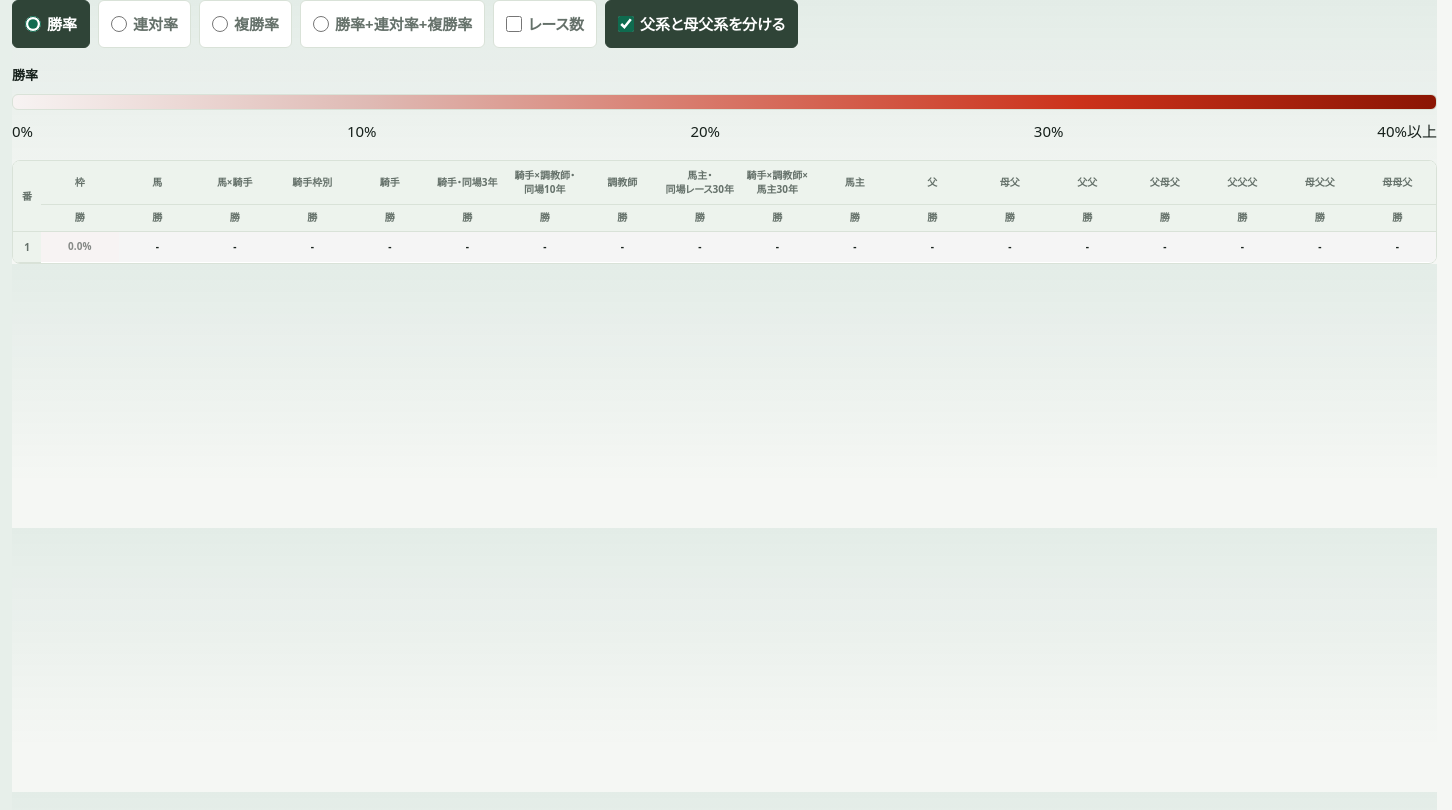
Test case: writes a zero rate with one decimal in the combined heatmap cells
This screenshot has width=1452, height=810.
Click the radio button labelled "勝率+連対率+複勝率".
click(321, 24)  # box [313,16,329,32]
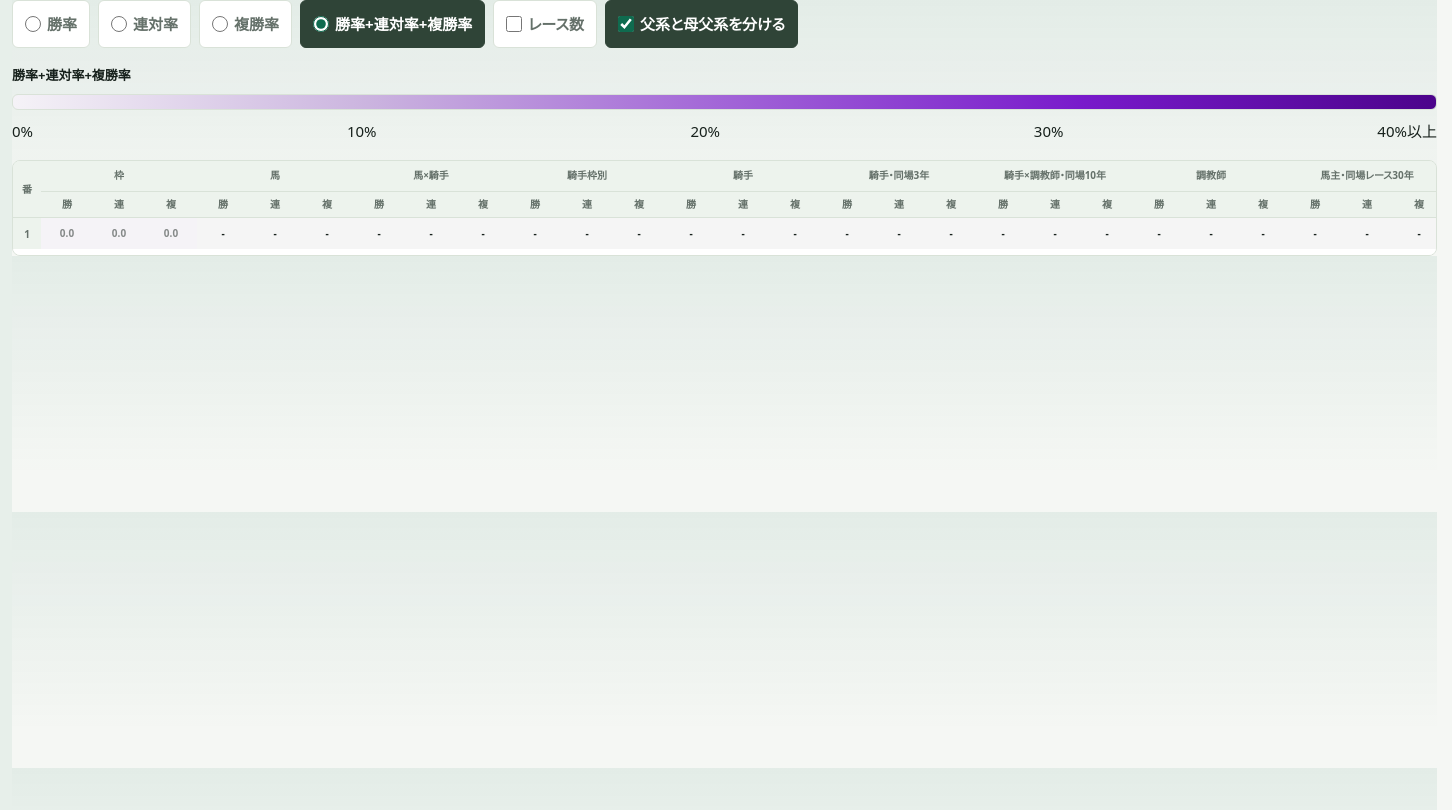
Now the text "0.0" is shown 3 times, box [60,226,74,240]; [112,226,126,240]; [164,226,178,240]
Now the text with class "win-rate-heatmap-swatch-value-suffix" is gone
Now the 1st text "0.0" is shown, box [60,226,74,240]
